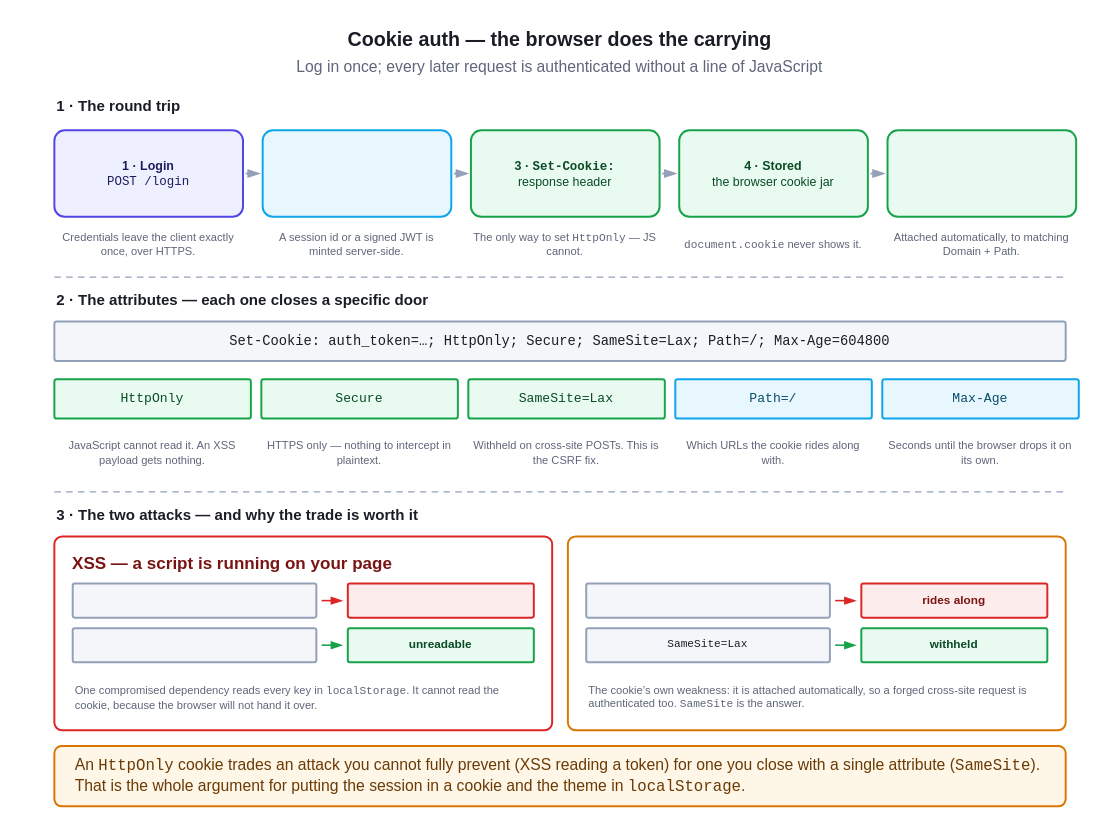
This 1119x829 diagram has some shape labels left out. The shapes that lost their labels are listed below. From the top down, each one's box as (x1, y1, x2, y2) in pixels, then its label:
(261, 129, 452, 217): 2 · Verify server checks the password
(886, 129, 1077, 217): 5 · Every request Cookie: auth_token=…
(71, 582, 317, 618): localStorage.getItem("t")
(346, 582, 534, 618): stolen
(585, 582, 830, 618): cookie, no SameSite
(71, 627, 317, 663): HttpOnly cookie
(566, 535, 1066, 731): CSRF — evil.com posts to your API
